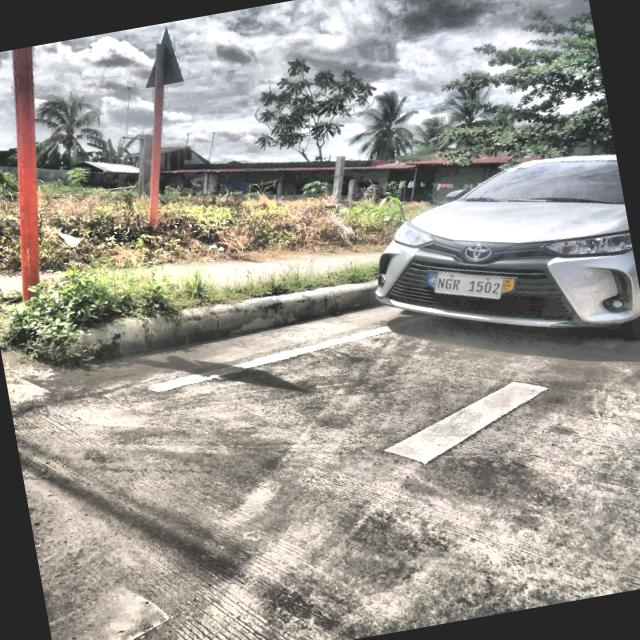license-plate: (434, 272, 503, 299)
